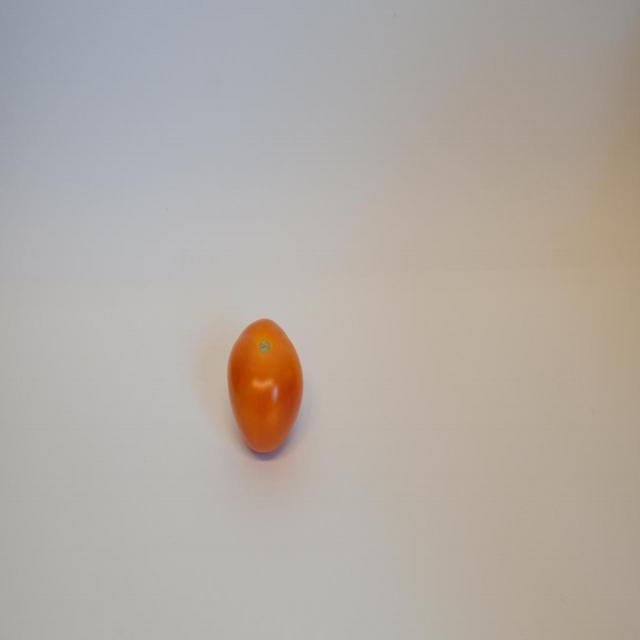tomato: (226, 312, 304, 462)
